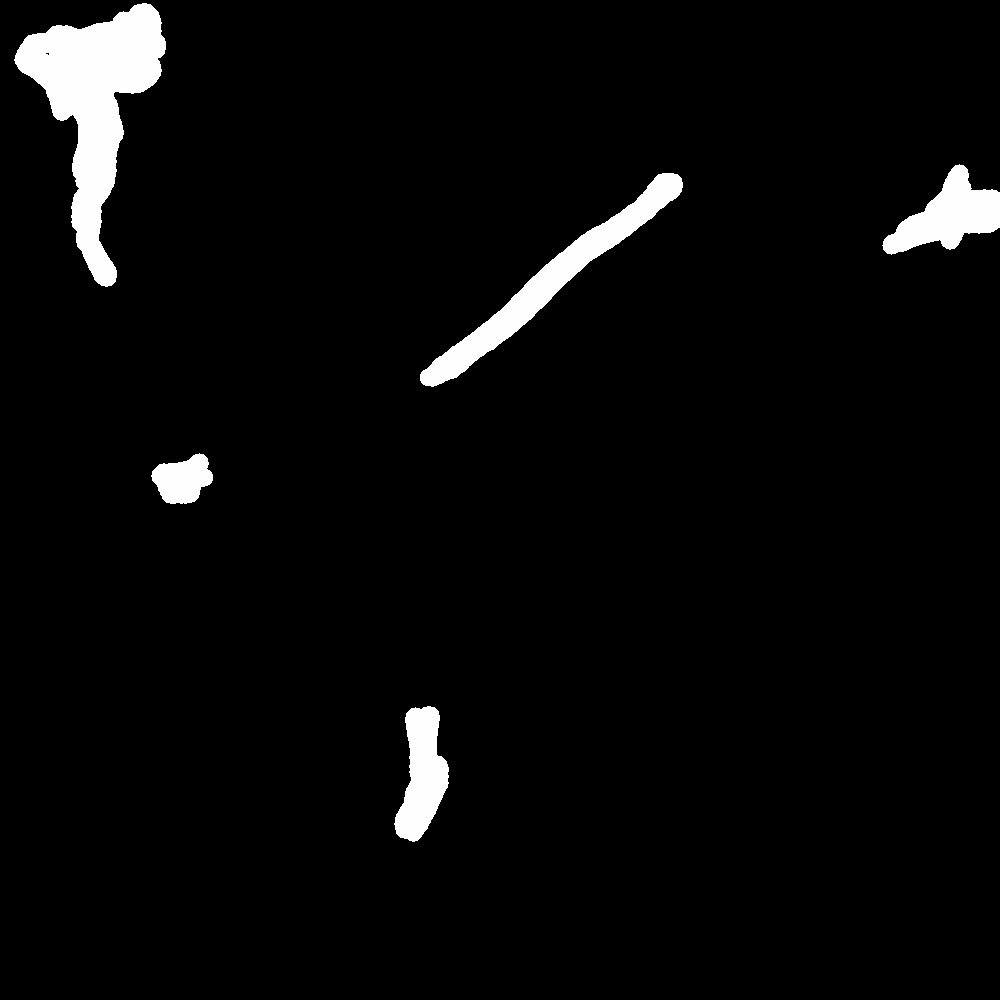illegal: (429, 167, 689, 385), (18, 1, 191, 193), (887, 180, 1000, 251), (390, 710, 451, 841), (148, 456, 221, 500)
